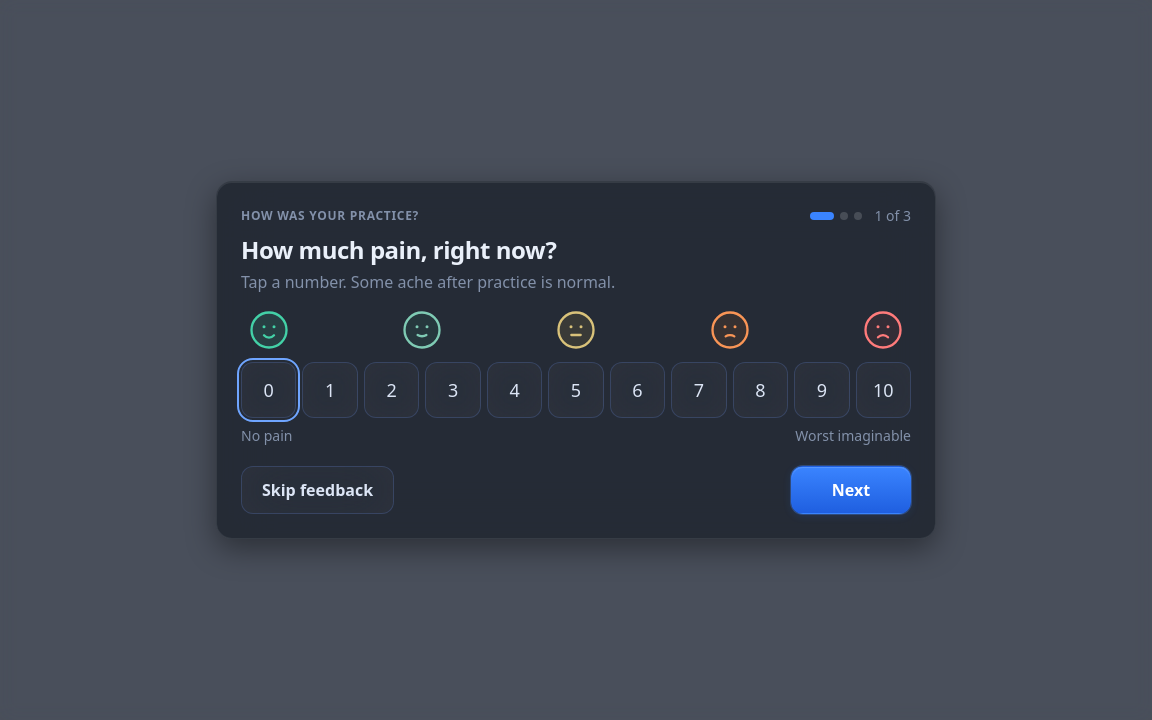
Test: pain at the prescription stop level says the therapist will be flagged; below it there is no therapist line
Click the radio button labelled "6" at (637, 390), box [610,362,665,418]
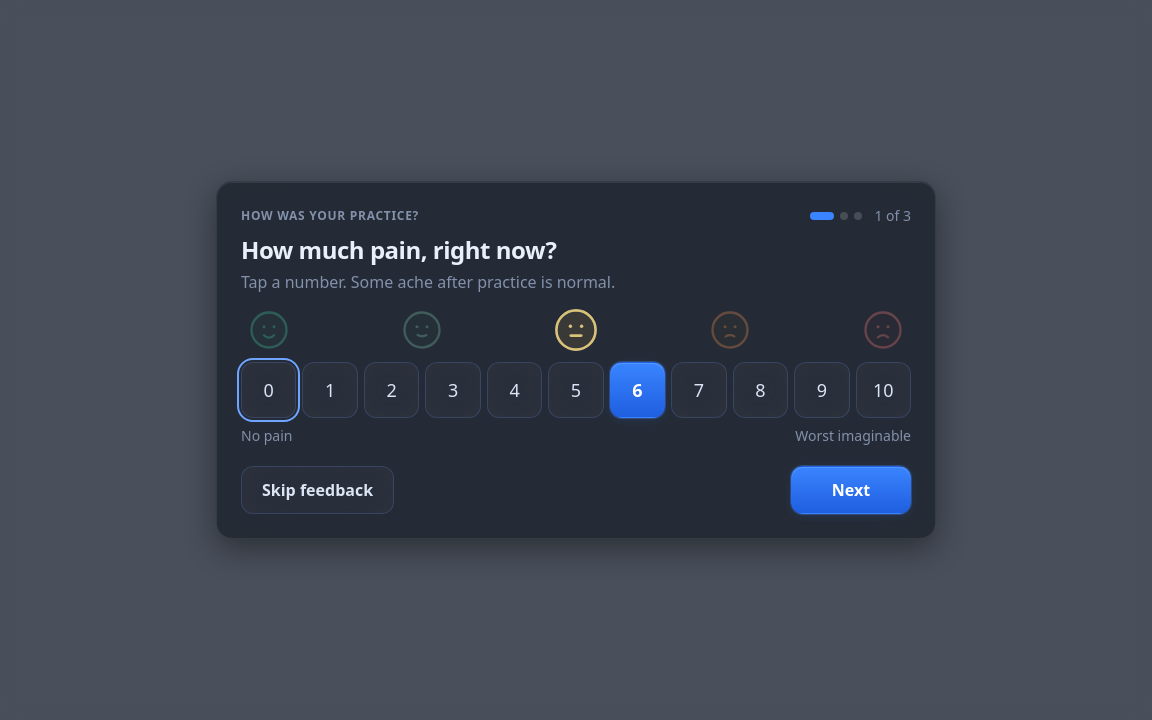
Check: the text "therapist" is not shown
Click the radio button labelled "7" at (699, 390), box [671,362,727,418]
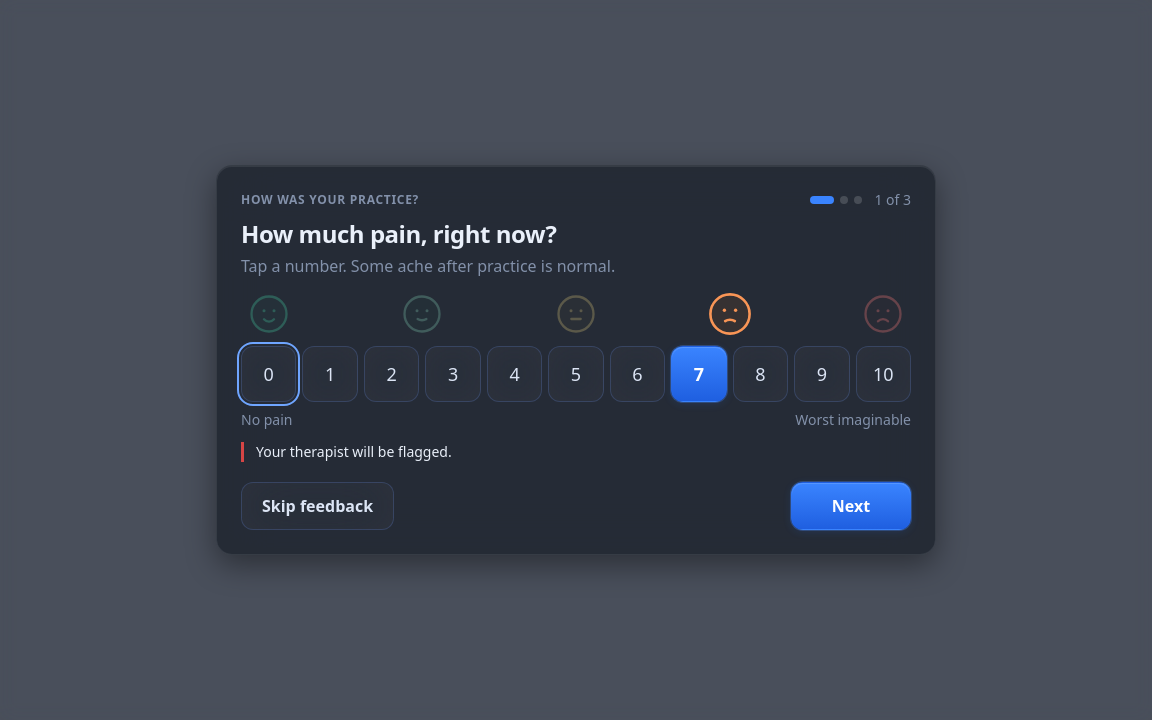
Check: the text "Your therapist will be flagged." is shown, box [241,442,911,462]
